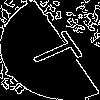T: (25, 25, 94, 74)
